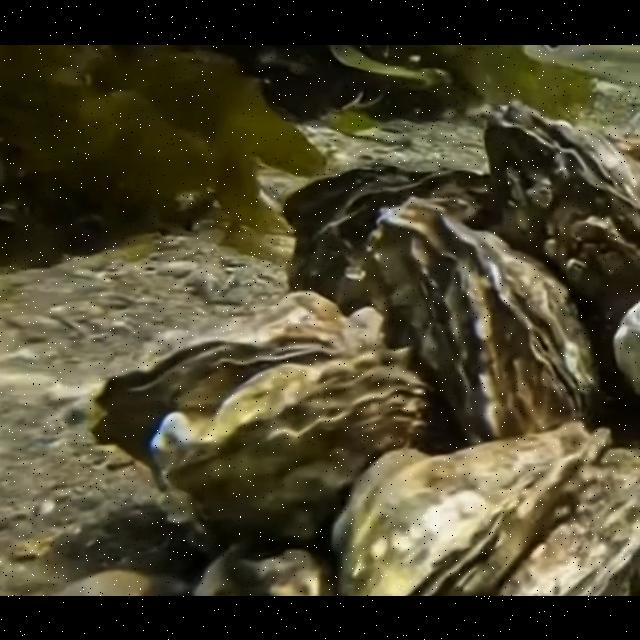Oyster-Closed: (377, 194, 599, 442), (150, 346, 428, 534), (500, 446, 640, 596)
Oyster-Open: (331, 418, 613, 594), (90, 329, 344, 491), (477, 98, 640, 314), (280, 162, 490, 316)
